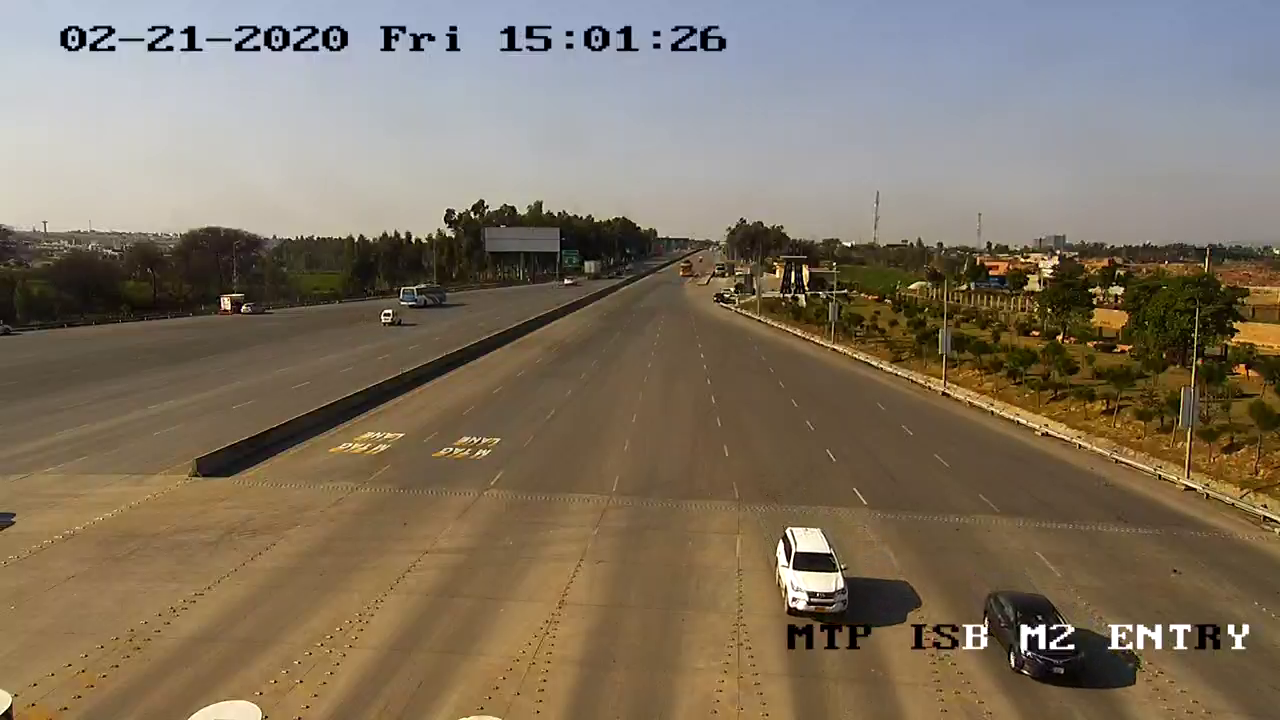f1: (765, 512, 862, 628)
